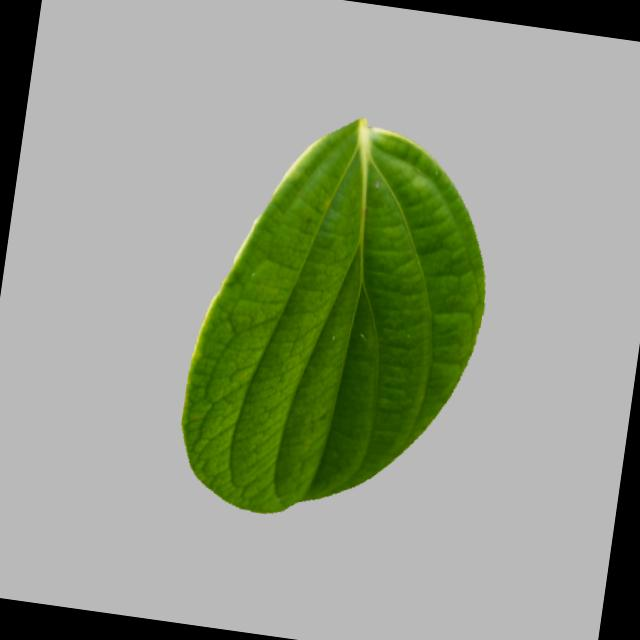healthy: (156, 96, 518, 547)
